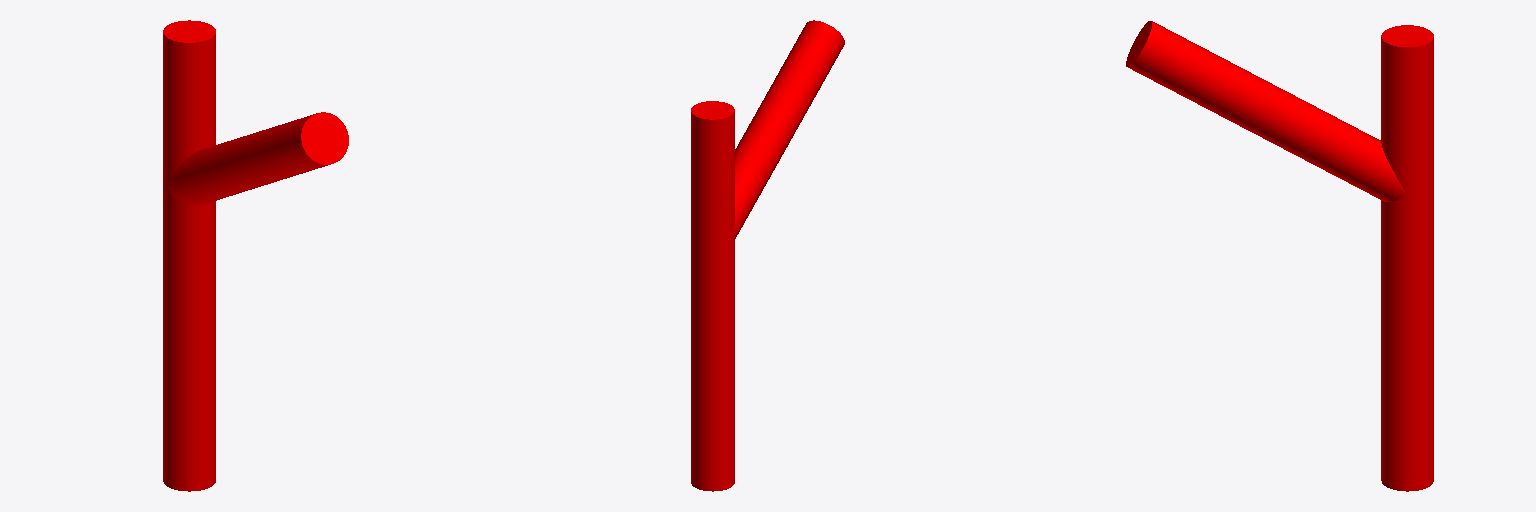
The robot description file, URDF, robot "tree.urdf":
<?xml version="1.0" ?>
<robot name="tree.urdf">
  <link name="baseLink">
    <inertial>
      <origin rpy="0 0 0" xyz="0 0 0"/>
       <mass value=".1"/>
       <inertia ixx="1" ixy="0" ixz="0" iyy="1" iyz="0" izz="1"/>
    </inertial>
    <visual>
      <origin rpy="0 0 0" xyz="0 0 0"/>
      <geometry>
        <mesh filename="9.stl" scale="1 1 1" />
      </geometry>
      <material name="red">
        <color rgba="1 0 0 1"/>
      </material>
    </visual>
    <collision>
      <origin rpy="0 0 0" xyz="0 0 0"/>
      <geometry>
        <mesh filename="9_convex.obj" scale="1 1 1" />
      </geometry>
    </collision>
  </link>
</robot>

--- Render facts (derived) ---
Views: 3 orthographic renders of the robot side by side, from view 1: azimuth 30°, elevation 25°; view 2: azimuth 150°, elevation 25°; view 3: azimuth 270°, elevation 25°.
Robot: tree.urdf — 1 links, 0 joints (none); root link baseLink; default pose: all joints at 0.
Links seen in each view (by area): view 1: baseLink; view 2: baseLink; view 3: baseLink.
Link boxes in pixels (box(x1,y1,x2,y2)): baseLink: box(163, 20, 348, 491); baseLink: box(691, 20, 844, 491); baseLink: box(1126, 21, 1433, 491).
Bounding box of the posed robot: 0.0268 × 0.157 × 0.2573 m (x, y, z).
Meshes: 1 distinct files referenced, 1 mesh visuals loaded (1 binary STL).